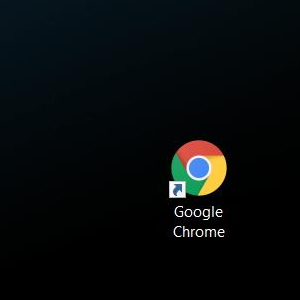chrome: (168, 139, 227, 198)
